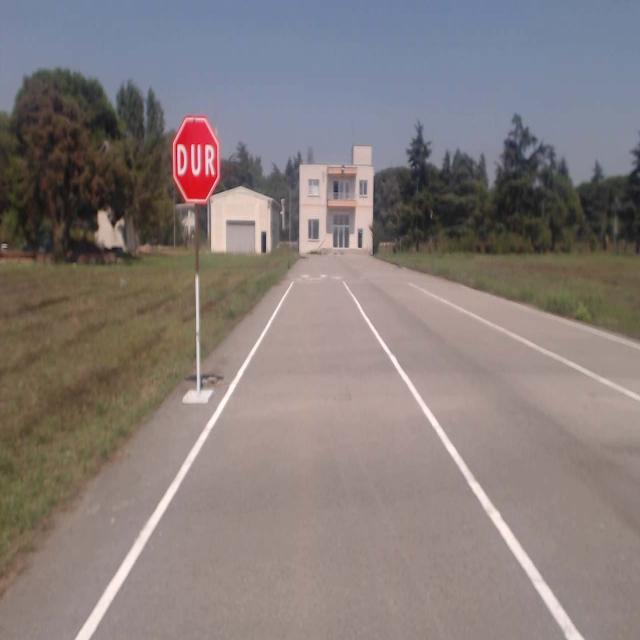dur: (172, 115, 221, 204)
